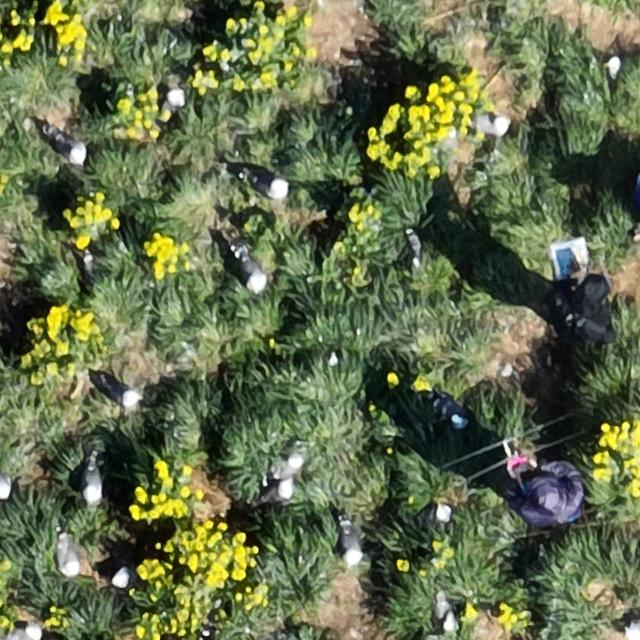umineko: (428, 394, 472, 432), (258, 480, 300, 511), (49, 131, 85, 162), (238, 254, 267, 291), (248, 175, 288, 200), (102, 382, 139, 408), (463, 118, 512, 137), (58, 535, 80, 576), (428, 502, 453, 534), (163, 88, 184, 126), (341, 526, 361, 565), (83, 463, 102, 504), (287, 442, 309, 470), (326, 346, 344, 379), (111, 567, 134, 590), (608, 54, 622, 79), (0, 471, 8, 499)
